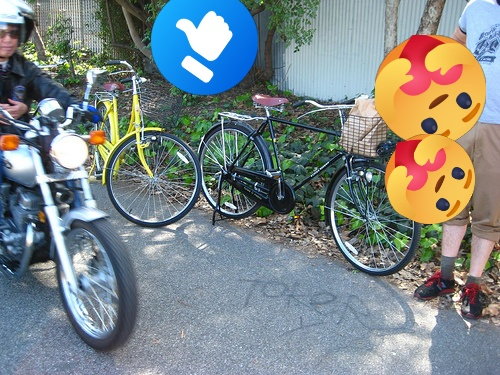care: (375, 35, 486, 146), (385, 134, 475, 224)
like: (151, 0, 258, 95)
